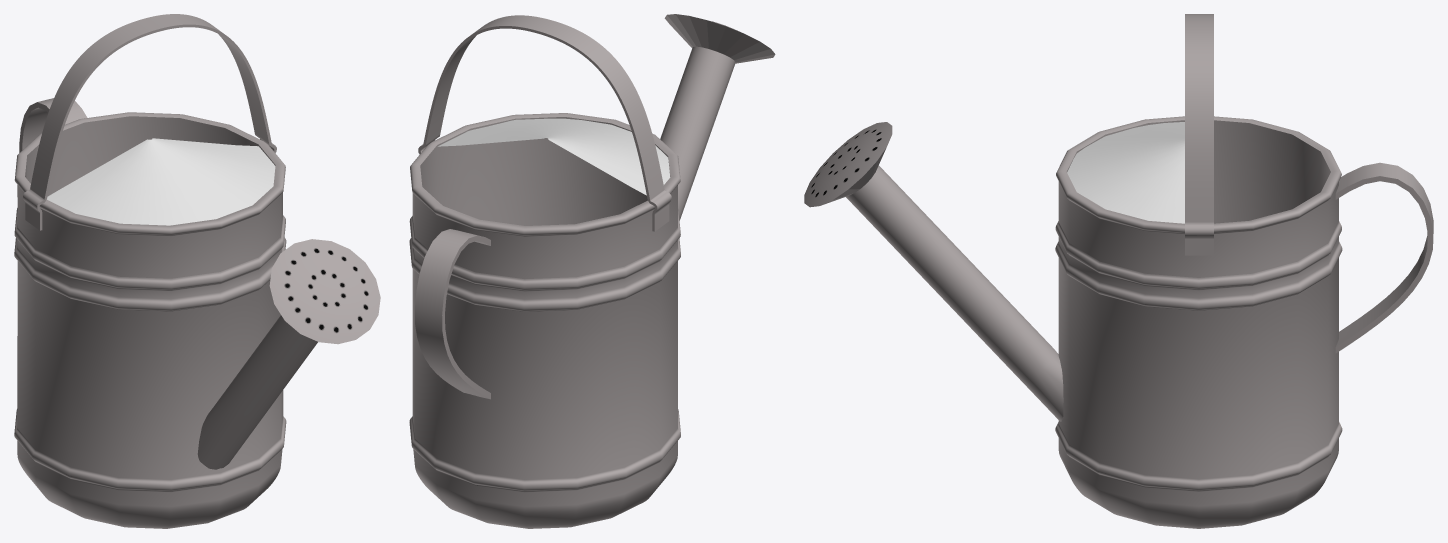
File: WateringCan.FBX
The picture shows the model from 3 angles, left to right: view 1: azimuth 30°, elevation 25°; view 2: azimuth 150°, elevation 25°; view 3: azimuth 270°, elevation 25°; orthographic projection.
Visible parts, largest first — view 1: Line002, Cylinder004, Cone001, Box002, Box001; view 2: Line002, Cylinder004, Box002, Cone001, Box001; view 3: Line002, Cylinder004, Cone001, Box002, Box001.
Part boxes in pixels (x1,y1,x2,y2): Line002: (14, 112, 286, 528); Cylinder004: (197, 239, 380, 469); Cone001: (47, 138, 275, 225); Box002: (23, 14, 276, 230); Box001: (19, 98, 87, 152); Line002: (409, 113, 680, 528); Cylinder004: (660, 14, 775, 220); Box002: (418, 15, 671, 231); Cone001: (438, 118, 670, 195); Box001: (415, 229, 490, 399); Line002: (1055, 116, 1342, 528); Cylinder004: (804, 122, 1063, 421); Cone001: (1067, 122, 1184, 223); Box002: (1185, 14, 1213, 255); Box001: (1335, 162, 1433, 353).
Size of the model in its own units: 95.76 by 176 by 217.
Materials: 2 (2 with a texture image).
